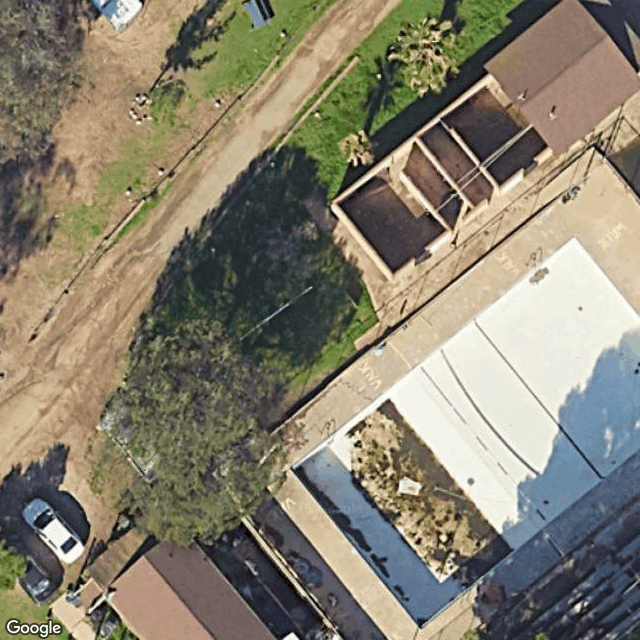palm: (379, 11, 470, 101), (334, 126, 382, 173)
